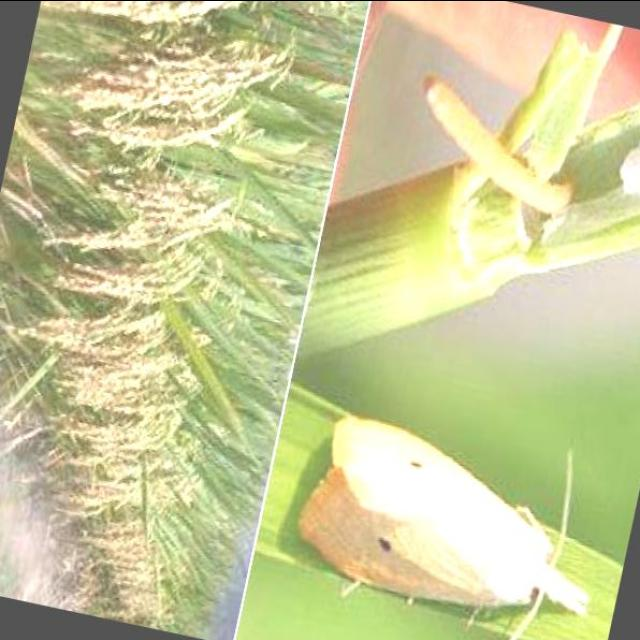stem borer: (300, 413, 588, 640), (426, 79, 572, 214)
